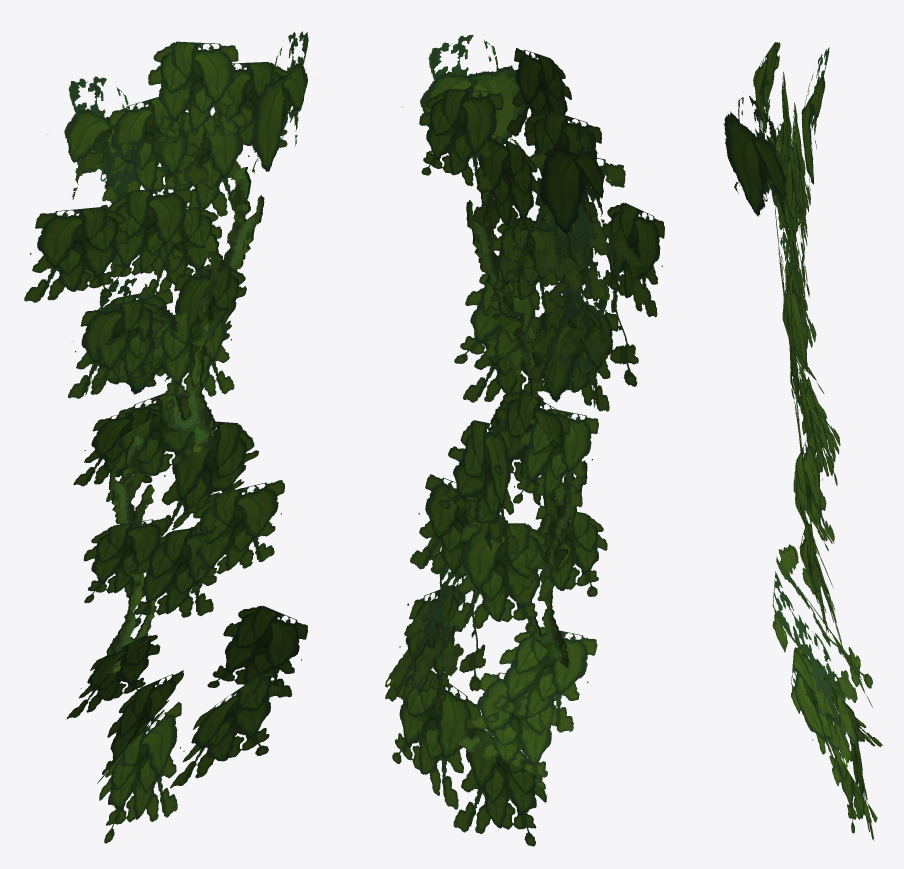
The model's file is ivyclump4.fbx.
3 renders of one model, left to right at view 1: azimuth 30°, elevation 25°; view 2: azimuth 150°, elevation 25°; view 3: azimuth 270°, elevation 25°, orthographic. The views are drawn at different scales.
Visible parts, largest first — view 1: ivywall4; view 2: ivywall4; view 3: ivywall4.
Part boxes in pixels (x1,y1,x2,y2): ivywall4: [24, 31, 308, 843]; ivywall4: [385, 34, 664, 846]; ivywall4: [723, 42, 882, 840].
Bounding box in the file's own units: 156 × 386 × 82.84.
